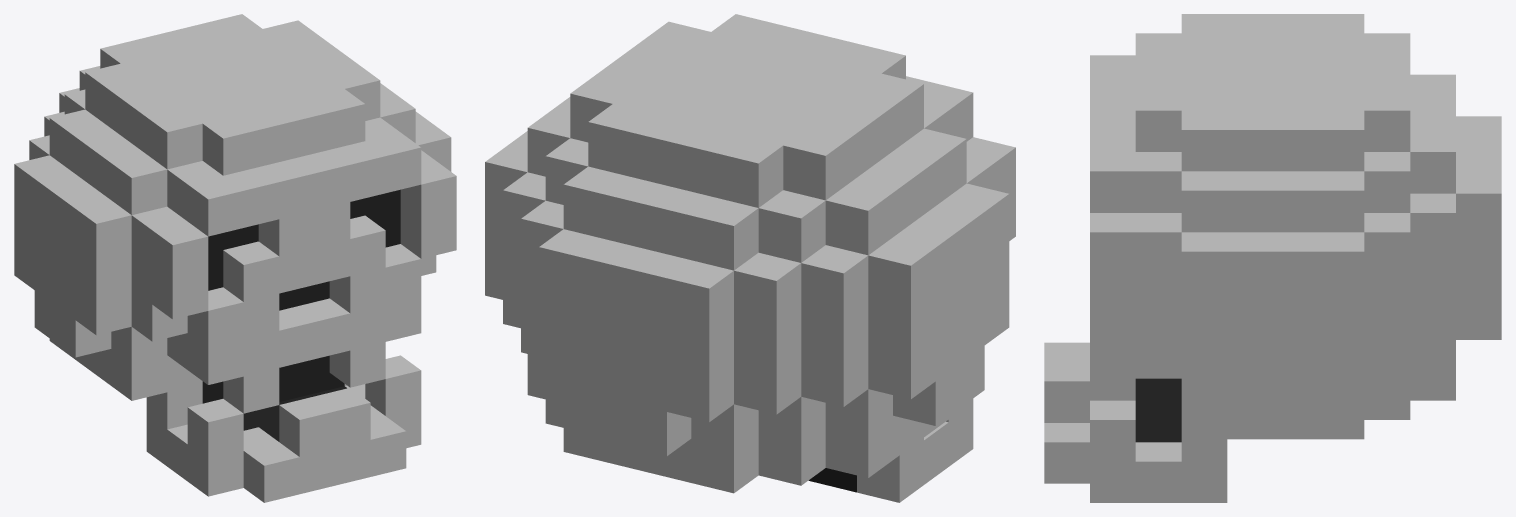
File: Skull_2.glb
The picture shows the model from 3 angles, left to right: view 1: azimuth 30°, elevation 25°; view 2: azimuth 150°, elevation 25°; view 3: azimuth 270°, elevation 25°; orthographic projection. The views are drawn at different scales.
Visible parts, largest first — view 1: Untitled.001; view 2: Untitled.001; view 3: Untitled.001.
Part boxes in pixels (x1,y1,x2,y2): Untitled.001: (14,14,456,502); Untitled.001: (485,14,1015,502); Untitled.001: (1044,14,1501,502).
Size of the model in its own units: 1 by 0.9 by 1.
1 material, 1 textured.
